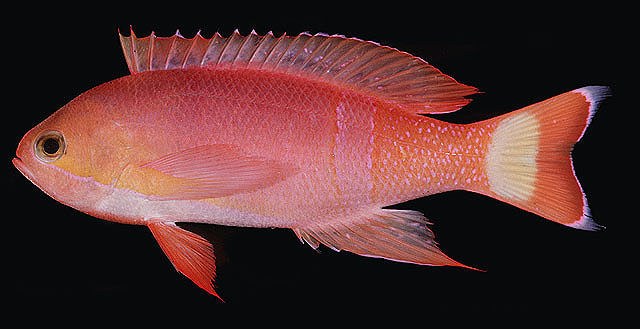fish: (11, 25, 611, 302)
